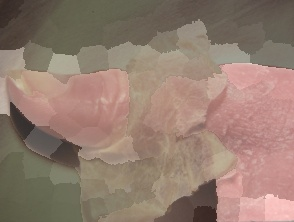SJS-TEN: (3, 11, 294, 222)
